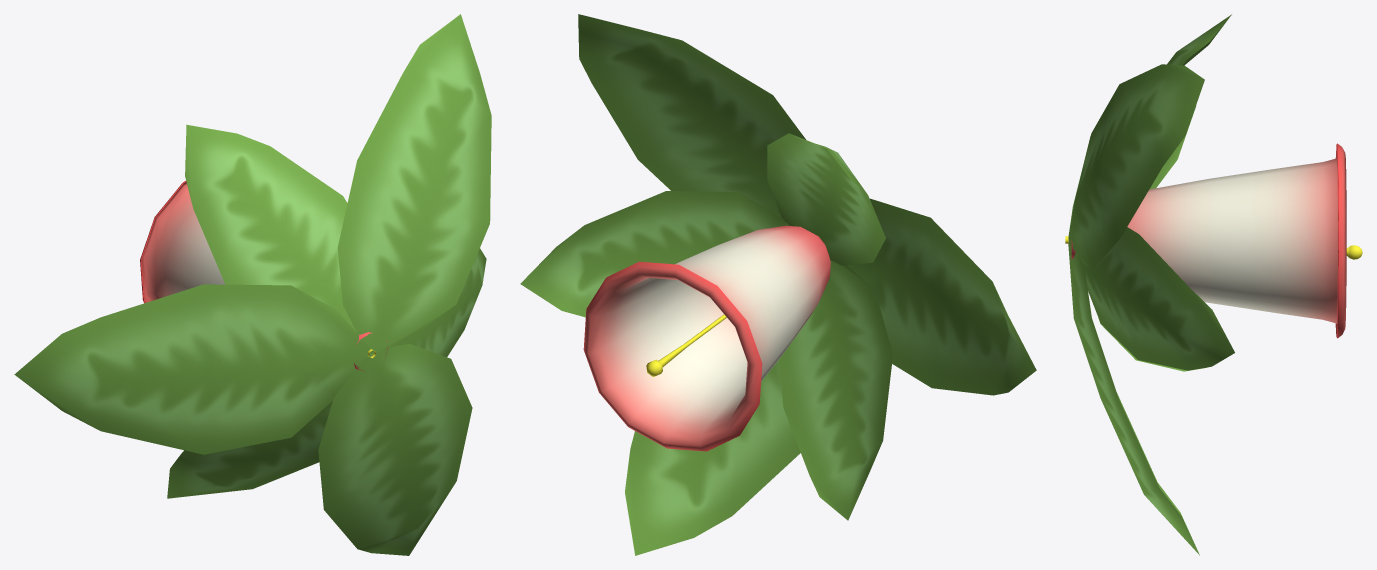
The model's file is flor blanca.fbx.
3 renders of one model, left to right at view 1: azimuth 30°, elevation 25°; view 2: azimuth 150°, elevation 25°; view 3: azimuth 270°, elevation 25°, orthographic. The views are drawn at different scales.
Visible parts, largest first — view 1: pPlane67, pPlane65, pPlane63, pPlane66, pPlane68, pCylinder340, pPlane64; view 2: pCylinder340, pPlane65, pPlane67, pPlane68, pPlane63, pPlane64, pPlane66, pSphere2; view 3: pCylinder340, pPlane65, pPlane64, pPlane63, pPlane66, pPlane67.
Boxes of the visible parts, box(x1,y1,x2,y2) form: pPlane67: box(14, 284, 374, 454); pPlane65: box(337, 14, 491, 356); pPlane63: box(318, 344, 472, 555); pPlane66: box(185, 124, 372, 355); pPlane68: box(167, 351, 372, 498); pCylinder340: box(140, 181, 388, 371); pPlane64: box(369, 248, 486, 356); pCylinder340: box(583, 225, 830, 451); pPlane65: box(578, 14, 805, 217); pPlane67: box(847, 198, 1036, 395); pPlane68: box(779, 260, 892, 520); pPlane63: box(625, 360, 800, 555); pPlane64: box(520, 191, 789, 317); pPlane66: box(767, 133, 885, 265); pSphere2: box(646, 314, 726, 376); pCylinder340: box(1071, 143, 1346, 338); pPlane65: box(1068, 64, 1204, 270); pPlane64: box(1077, 227, 1234, 370); pPlane63: box(1068, 243, 1199, 555); pPlane66: box(1167, 14, 1231, 65); pPlane67: box(1068, 105, 1196, 234).
Size of the model in its own units: 14.55 by 14.87 by 7.99.
